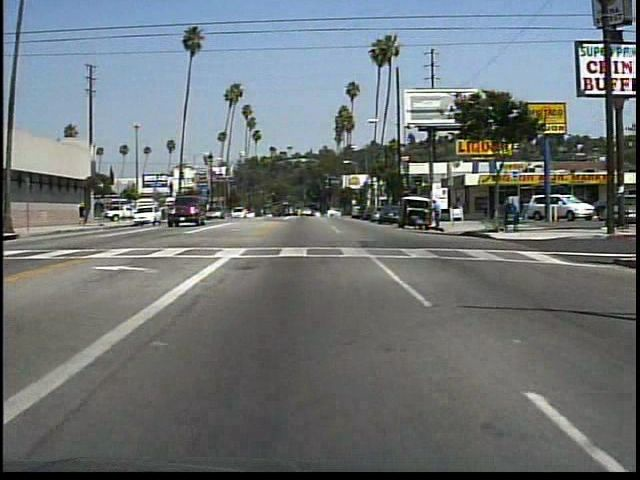person: (431, 197, 444, 232), (478, 192, 492, 221), (411, 214, 428, 232), (79, 199, 87, 228)
